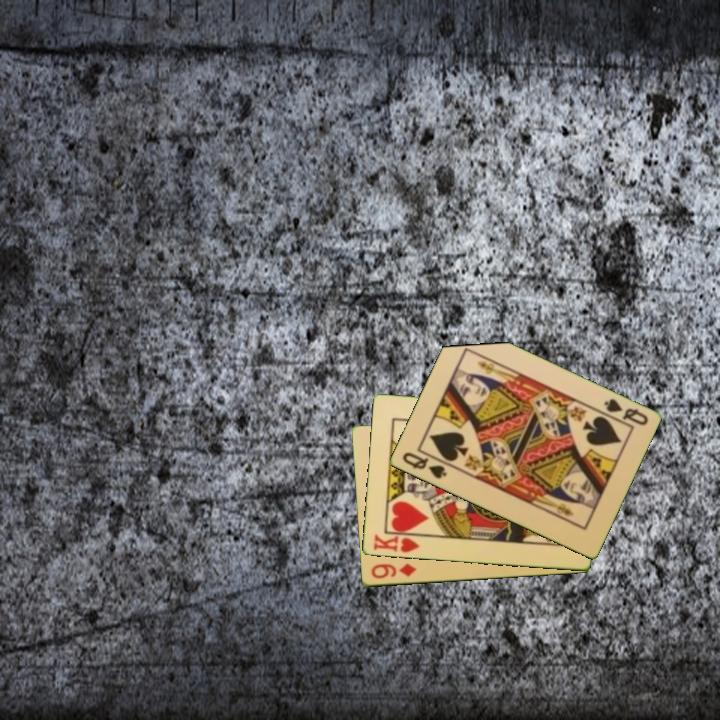9d: (367, 560, 419, 582)
Kh: (369, 530, 425, 556)
Qs: (596, 395, 651, 429), (398, 449, 449, 482)
